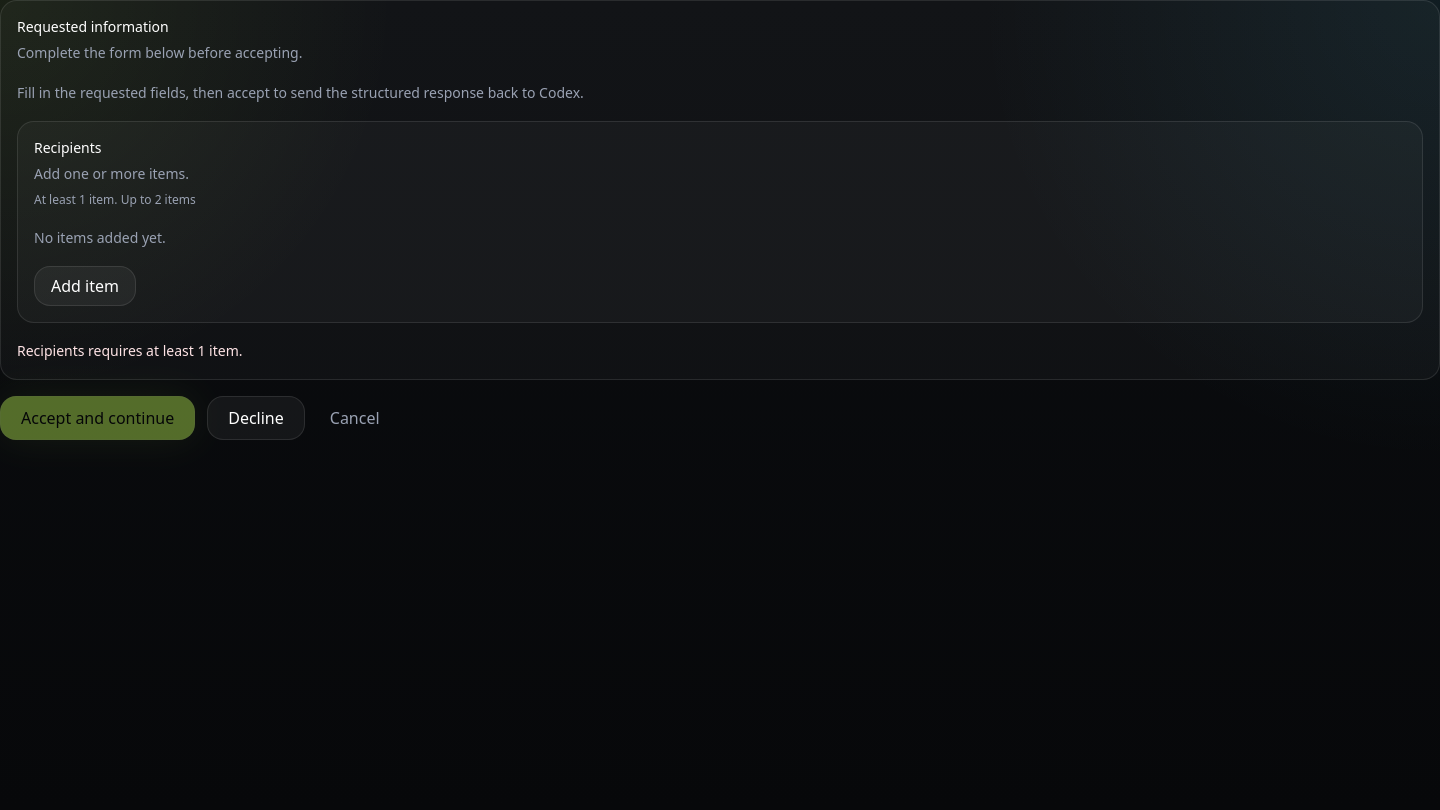
ElicitationForm › adds and removes array items while enforcing validation
Expected: the text "Add one or more items." is shown, top-left (34, 164), bottom-right (189, 183)
Expected: the text "At least 1 item. Up to 2 items" is shown, top-left (34, 191), bottom-right (196, 208)
Click the button "Add item" at (85,286), box top-left (34, 266), bottom-right (136, 306)
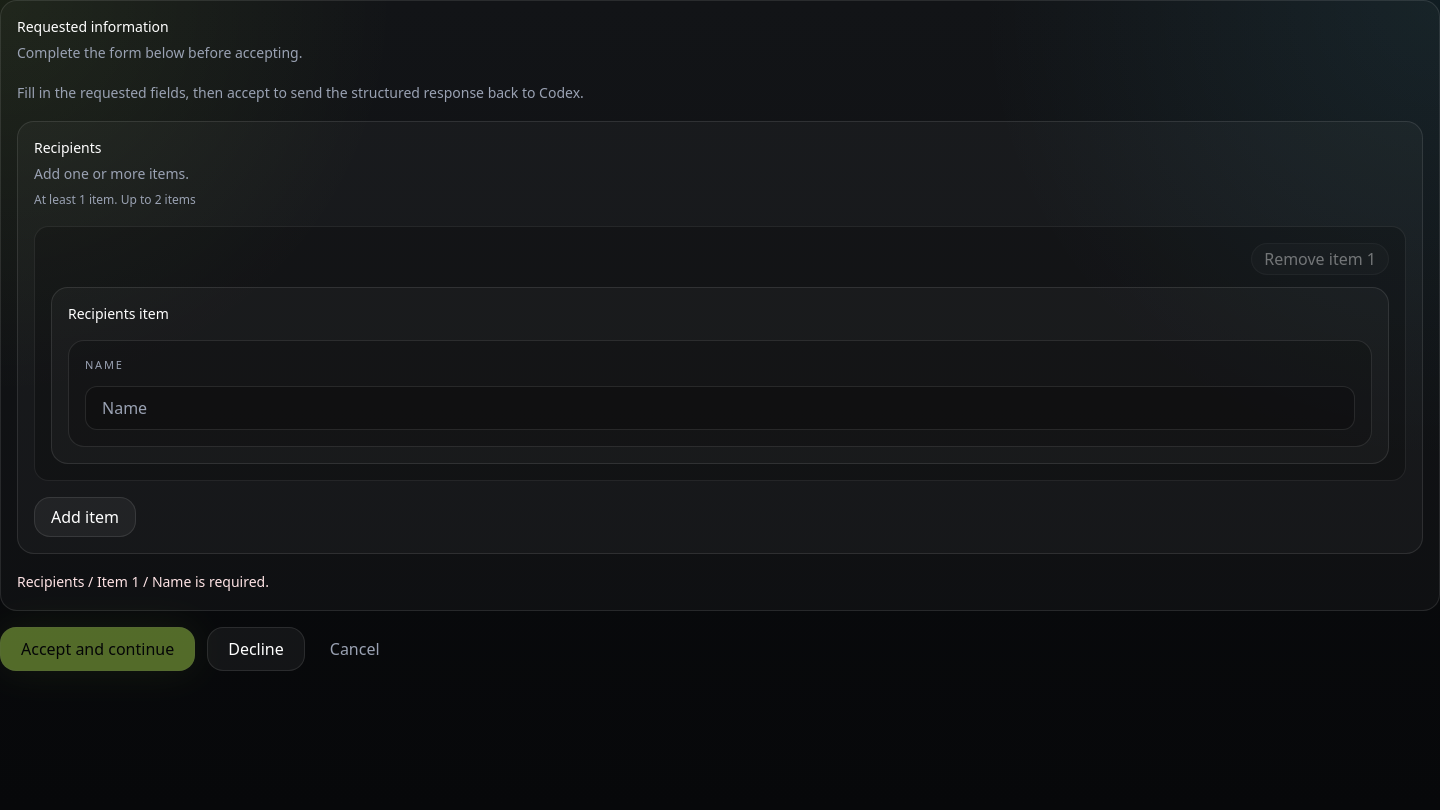
Click the button "Add item" at (85,516), box top-left (34, 496), bottom-right (136, 536)
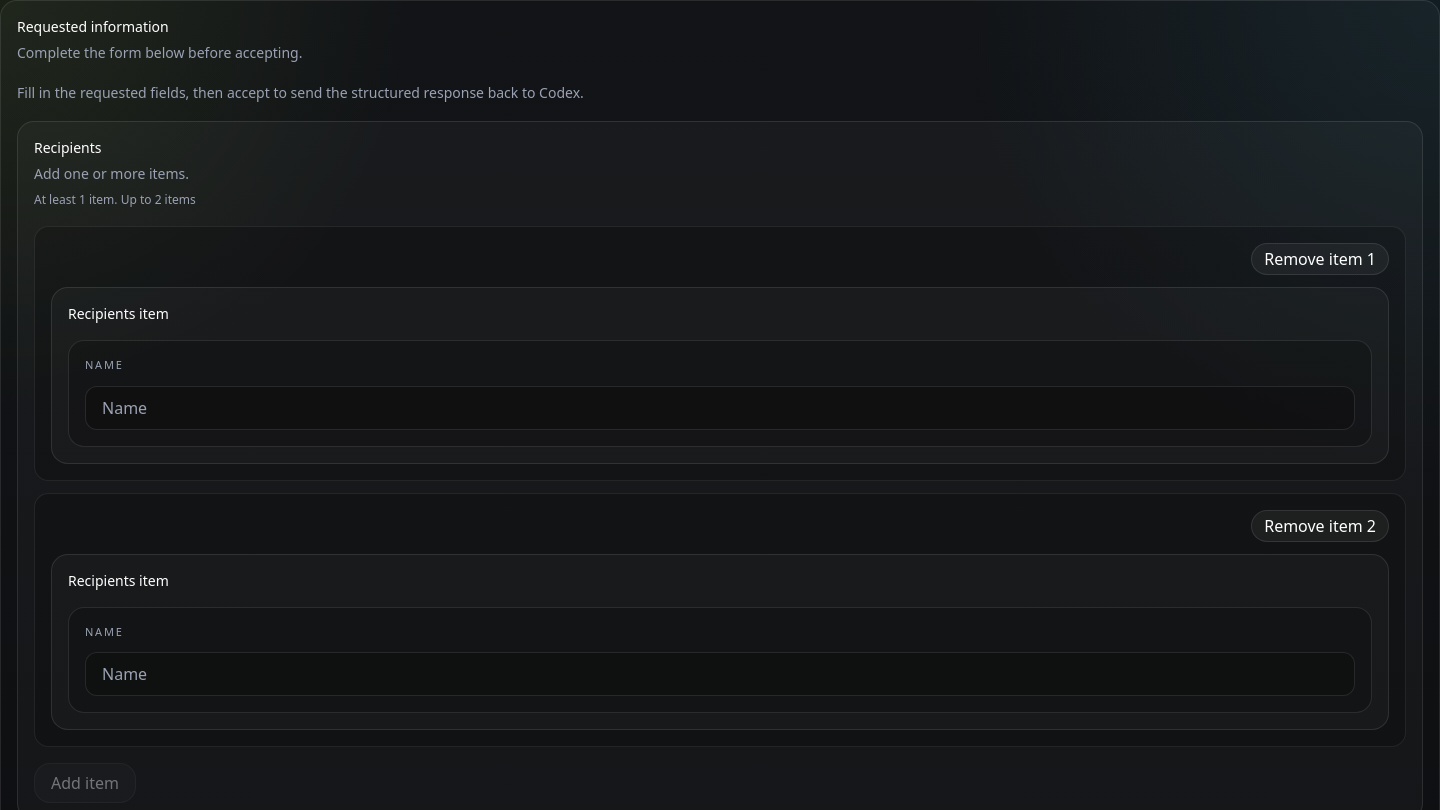
Expected: the button "Add item" is disabled, top-left (34, 763), bottom-right (136, 803)
Type "Grace" into the 1st field labelled "Name" at (720,408), box top-left (85, 386), bottom-right (1355, 430)
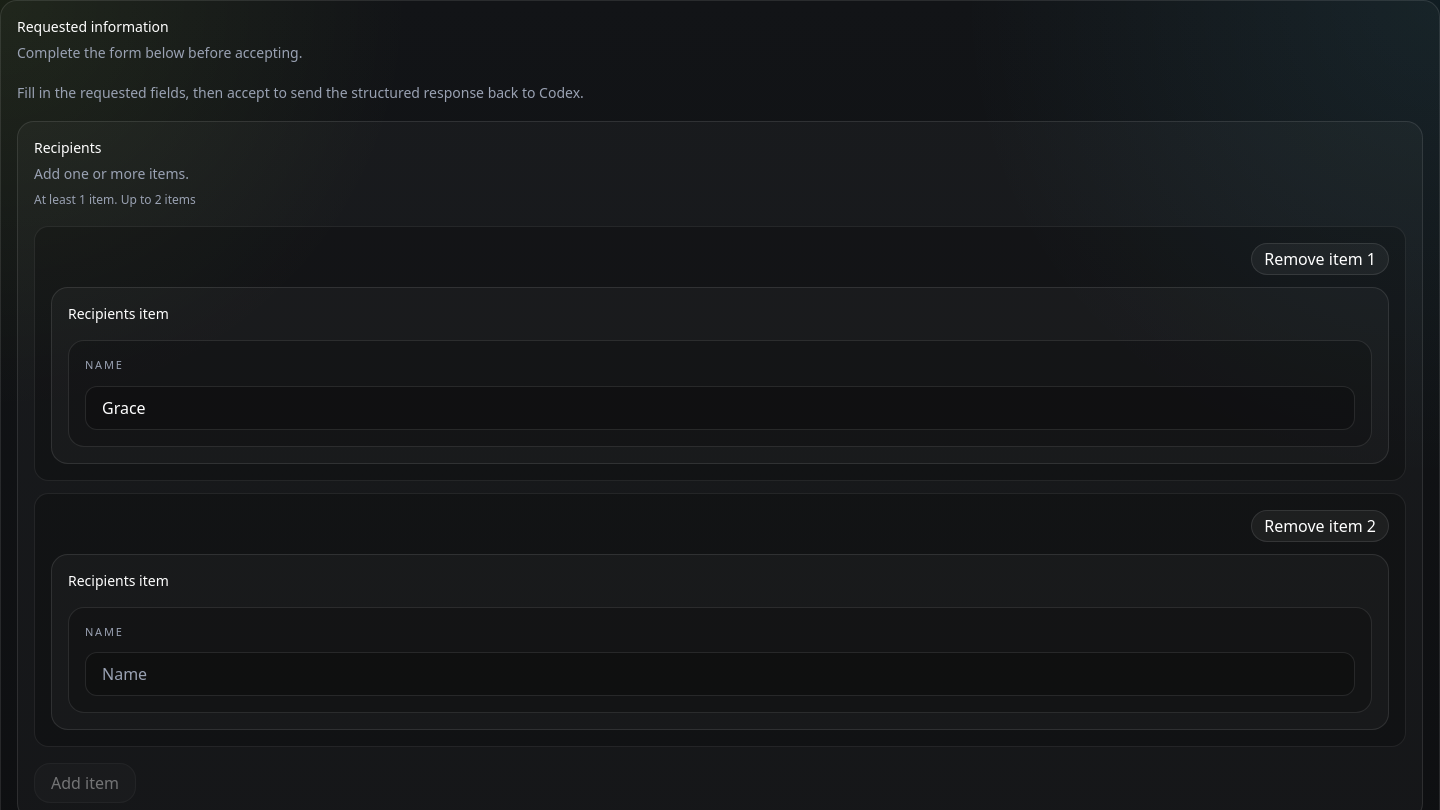
Type "Ada" into the 2nd field labelled "Name" at (720,674), box top-left (85, 652), bottom-right (1355, 696)
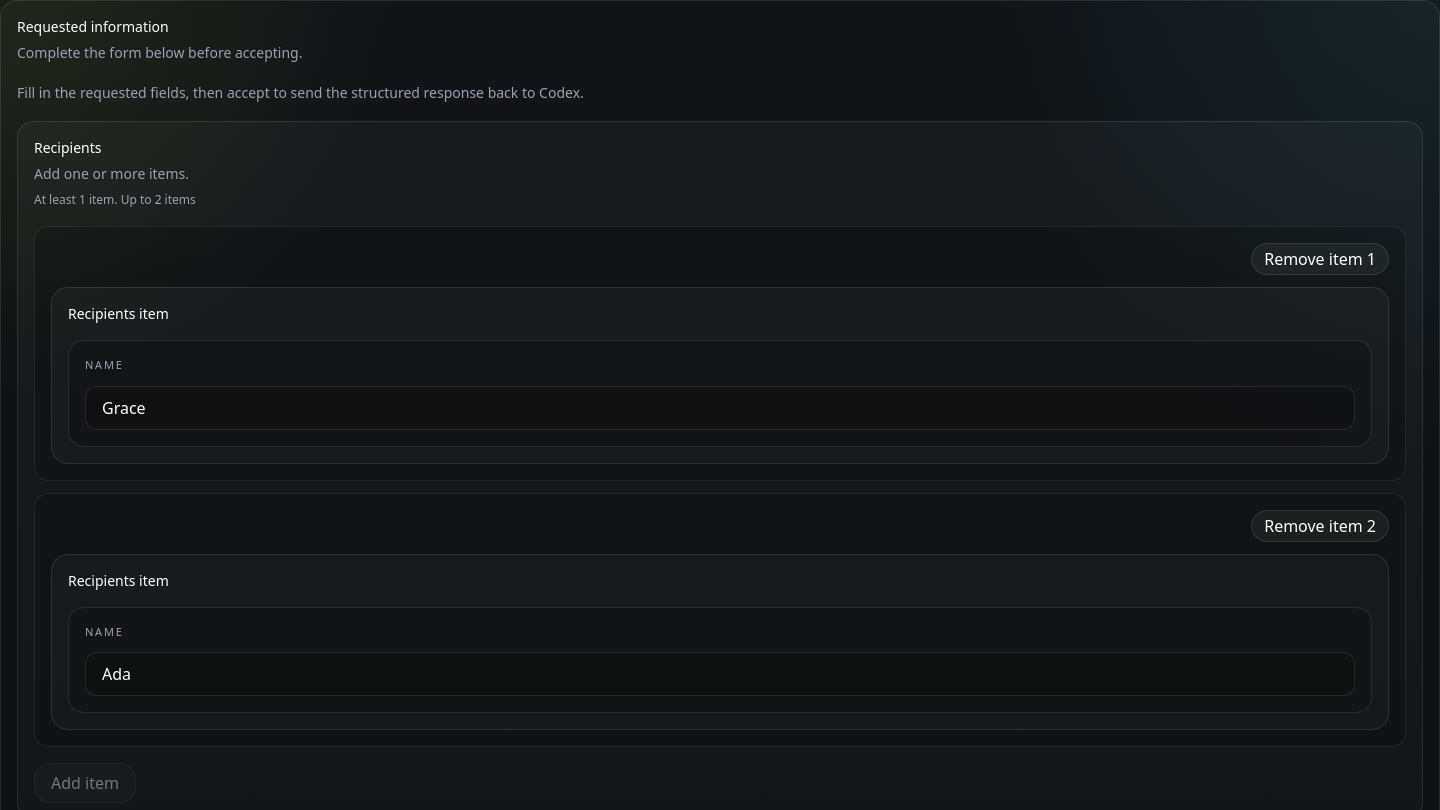
Click the button "Remove item 1" at (1320,259), box top-left (1251, 243), bottom-right (1389, 275)
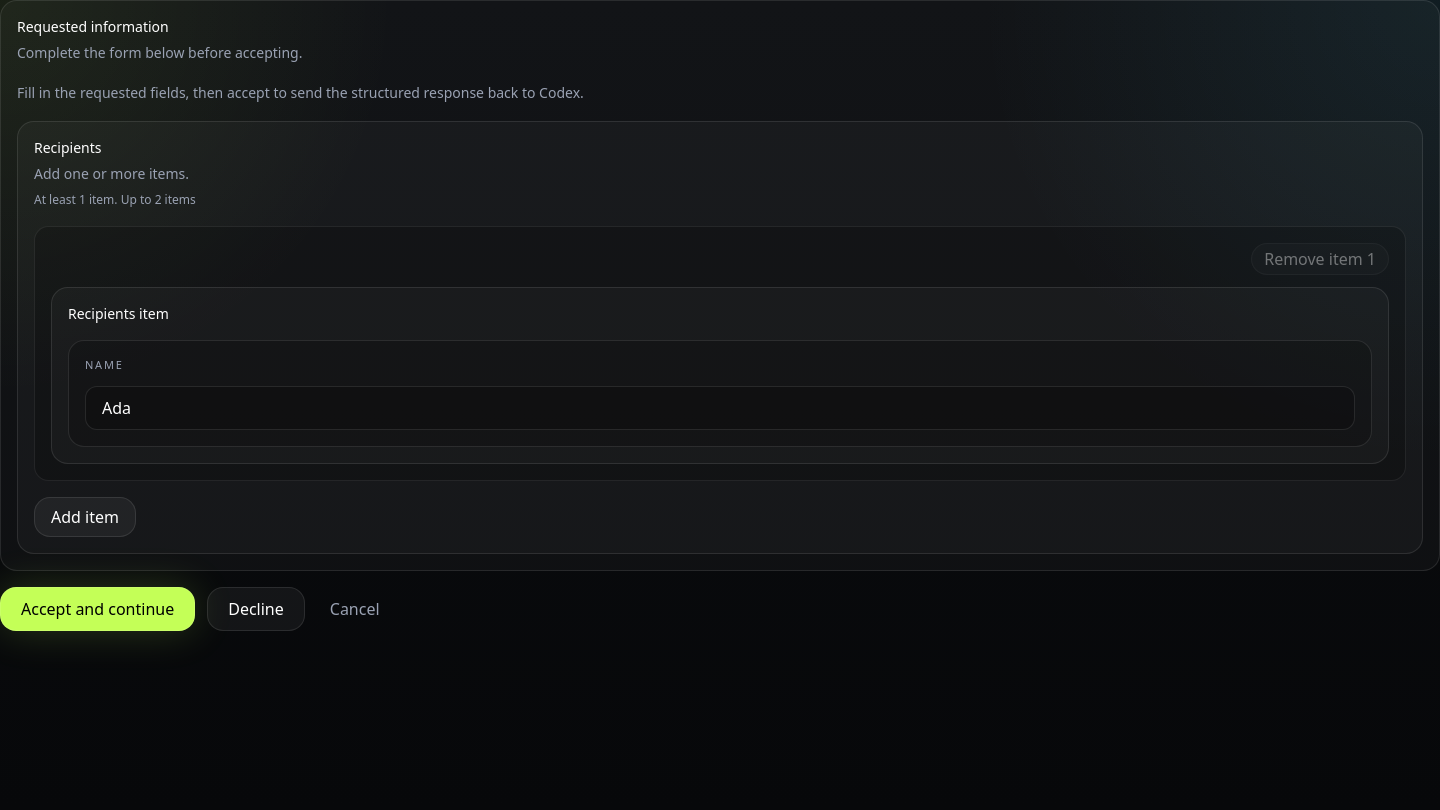
Expected: the number of fields labelled "Name" is 1, top-left (85, 386), bottom-right (1355, 430)
Expected: the field labelled "Name" holds "Ada", top-left (85, 386), bottom-right (1355, 430)
Expected: the button "Add item" is enabled, top-left (34, 496), bottom-right (136, 536)
